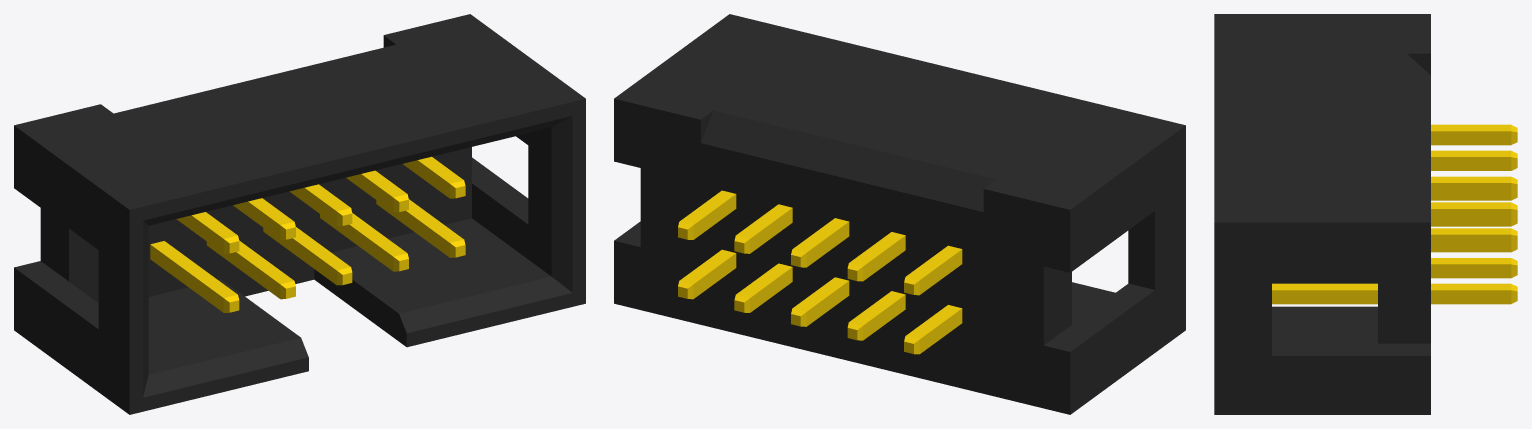
The model's file is DS1013-10S (IDC-10MS CONNFLY).obj.
The picture shows the model from 3 angles, left to right: view 1: azimuth 30°, elevation 25°; view 2: azimuth 150°, elevation 25°; view 3: azimuth 270°, elevation 25°; orthographic projection. The views are drawn at different scales.
Visible parts, largest first — view 1: DS1013-10S_(IDC-10MS_CONNFLY); view 2: DS1013-10S_(IDC-10MS_CONNFLY); view 3: DS1013-10S_(IDC-10MS_CONNFLY).
Boxes of the visible parts, x1=… form: DS1013-10S_(IDC-10MS_CONNFLY): x1=14, y1=14, x2=585, y2=414; DS1013-10S_(IDC-10MS_CONNFLY): x1=614, y1=14, x2=1185, y2=414; DS1013-10S_(IDC-10MS_CONNFLY): x1=1214, y1=14, x2=1517, y2=414.
Bounding box in the file's own units: 0.0293 × 0.0127 × 0.018.
